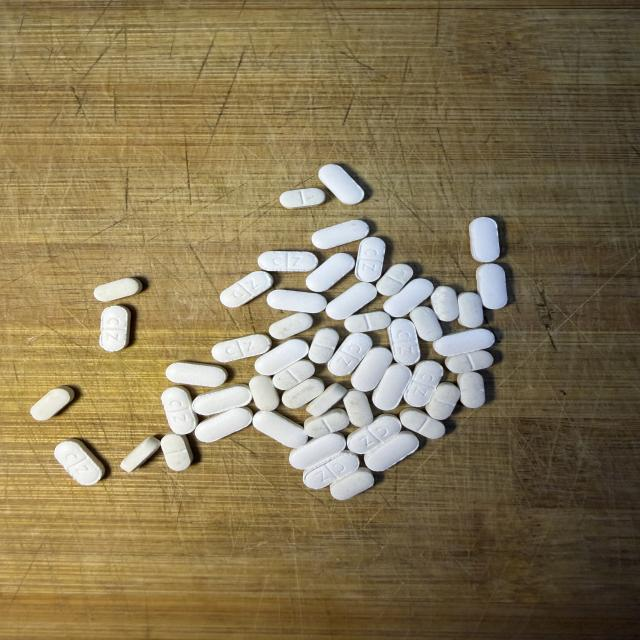pill: (54, 439, 104, 485), (347, 414, 401, 454), (303, 451, 359, 489), (365, 432, 419, 471), (289, 433, 346, 469), (383, 278, 434, 318), (253, 411, 307, 448), (195, 407, 252, 442), (306, 253, 355, 292), (220, 271, 273, 307), (255, 339, 308, 375), (192, 384, 252, 415), (328, 334, 372, 376), (326, 283, 377, 319), (351, 347, 392, 391), (372, 364, 411, 410), (319, 165, 364, 204), (404, 361, 443, 406), (161, 387, 198, 434), (312, 220, 369, 249), (212, 334, 271, 362), (433, 329, 494, 356), (166, 362, 227, 387), (388, 319, 420, 365), (476, 264, 508, 310), (31, 386, 74, 420), (330, 467, 374, 500), (120, 437, 160, 472), (100, 306, 130, 352), (267, 290, 326, 313), (469, 217, 499, 262), (355, 237, 385, 282), (400, 409, 445, 439), (307, 383, 347, 416), (304, 408, 349, 437), (282, 377, 324, 408), (426, 382, 460, 420), (258, 251, 318, 272), (273, 360, 314, 390), (409, 306, 443, 342), (161, 433, 193, 471), (94, 278, 142, 302), (377, 264, 413, 296), (269, 313, 313, 339), (343, 390, 373, 426), (445, 351, 493, 373), (249, 375, 279, 410), (309, 328, 339, 363), (457, 372, 485, 408), (345, 311, 391, 332), (431, 286, 458, 321), (458, 292, 483, 328), (280, 188, 325, 208)
